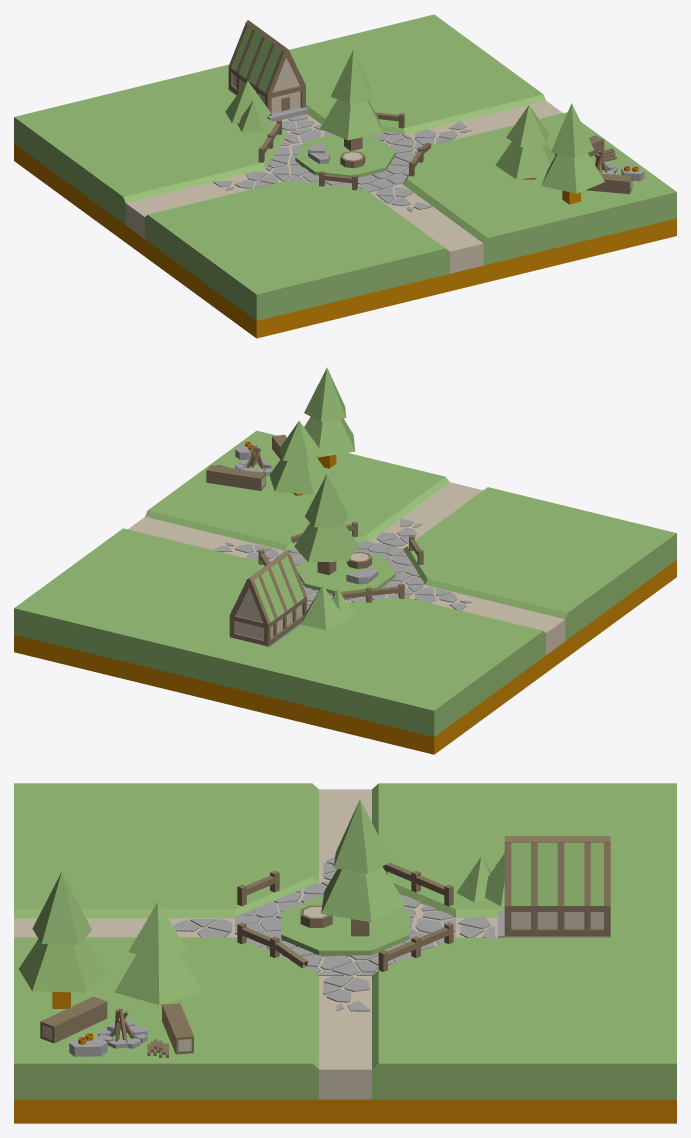
The model's file is Low_poly_intersection.dae.
3 renders of one model, top to bottom at view 1: azimuth 30°, elevation 25°; view 2: azimuth 150°, elevation 25°; view 3: azimuth 270°, elevation 25°, orthographic. The views are drawn at different scales.
Parts seen in each view (by area): view 1: Grass (×17), Base (×5), Road (×4), Tree (×4), Brep (×4), School (×2), Log; view 2: Grass (×16), Base (×5), Road (×3), Tree (×4), Brep (×3), School (×2), Log; view 3: Grass (×18), Base (×3), Road (×4), Tree (×4), School (×7), Brep (×4), Log (×2), Rock.
Part boxes in pixels (x1,y1,x2,y2): Grass (×17): [14, 14, 676, 320]; Base (×5): [14, 143, 676, 338]; Road (×4): [125, 100, 562, 273]; Tree (×4): [495, 103, 604, 193]; Brep (×4): [225, 50, 383, 140]; School (×2): [231, 26, 300, 114]; Log: [585, 173, 632, 193]; Grass (×16): [14, 430, 676, 736]; Base (×5): [14, 560, 676, 754]; Road (×3): [128, 482, 565, 654]; Tree (×4): [269, 367, 355, 494]; Brep (×3): [294, 474, 358, 629]; School (×2): [235, 556, 304, 639]; Log: [206, 465, 265, 490]; Grass (×18): [14, 783, 676, 1099]; Base (×3): [14, 1099, 676, 1123]; Road (×4): [14, 789, 455, 1099]; Tree (×4): [19, 872, 201, 1005]; School (×7): [504, 836, 610, 935]; Brep (×4): [321, 799, 504, 922]; Log (×2): [40, 996, 193, 1054]; Rock: [69, 1035, 107, 1056].
Size of the model in its own units: 100 by 100 by 32.2.
